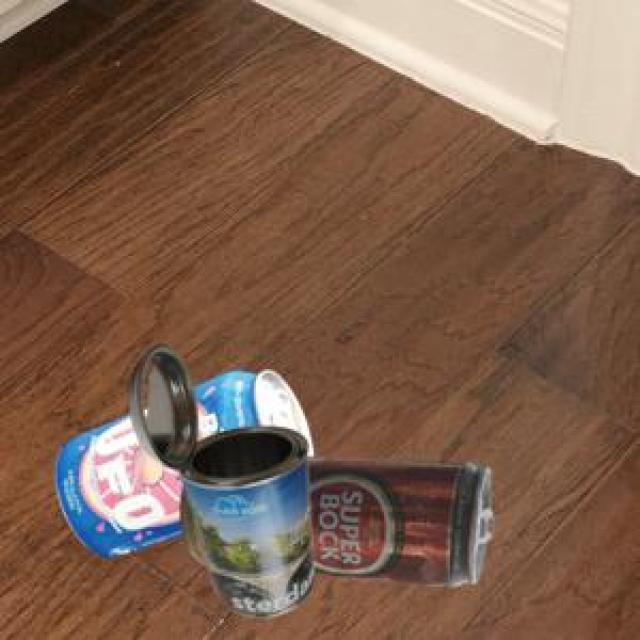logam: (127, 342, 310, 613), (52, 368, 309, 554), (257, 454, 490, 583)
